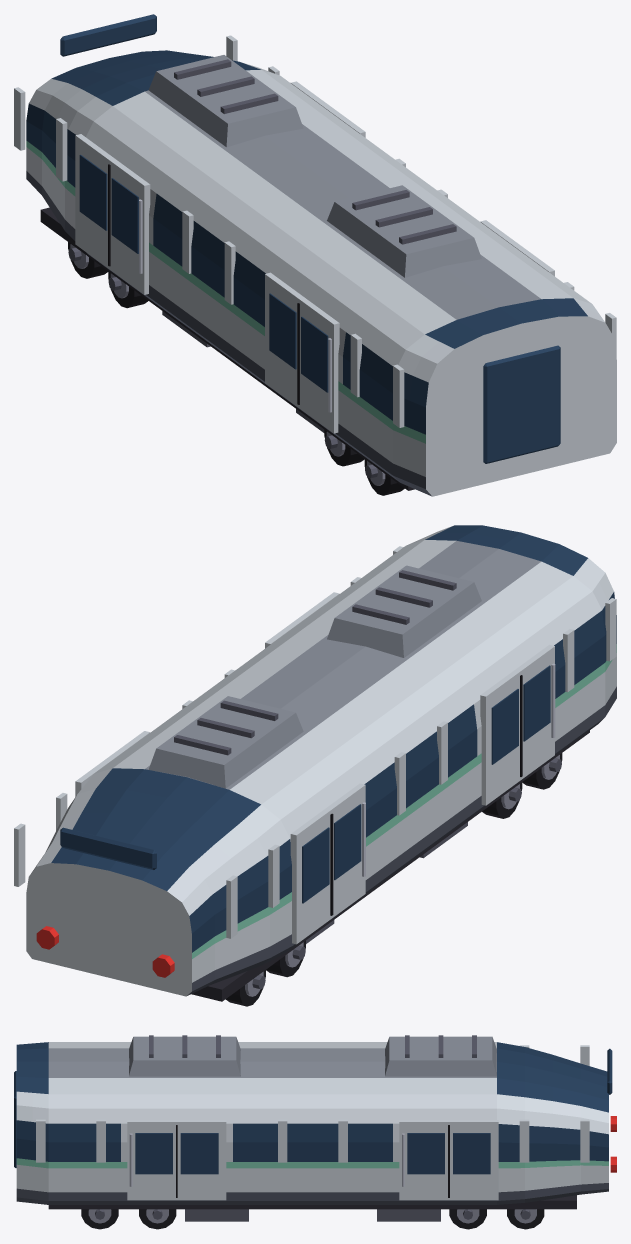
File: metro-train-rear.glb
3 renders of one model, top to bottom at view 1: azimuth 30°, elevation 25°; view 2: azimuth 150°, elevation 25°; view 3: azimuth 270°, elevation 25°, orthographic. The views are drawn at different scales.
Parts seen in each view (by area): view 1: MetroTrainRear; view 2: MetroTrainRear; view 3: MetroTrainRear.
Part boxes in pixels (left/top/right/bottom): MetroTrainRear: left=14, top=14, right=616, bottom=496; MetroTrainRear: left=14, top=525, right=616, bottom=1006; MetroTrainRear: left=14, top=1035, right=616, bottom=1229.
Bounding box in the file's own units: 1.18 × 1.07 × 3.77.
1 material, 1 textured.
